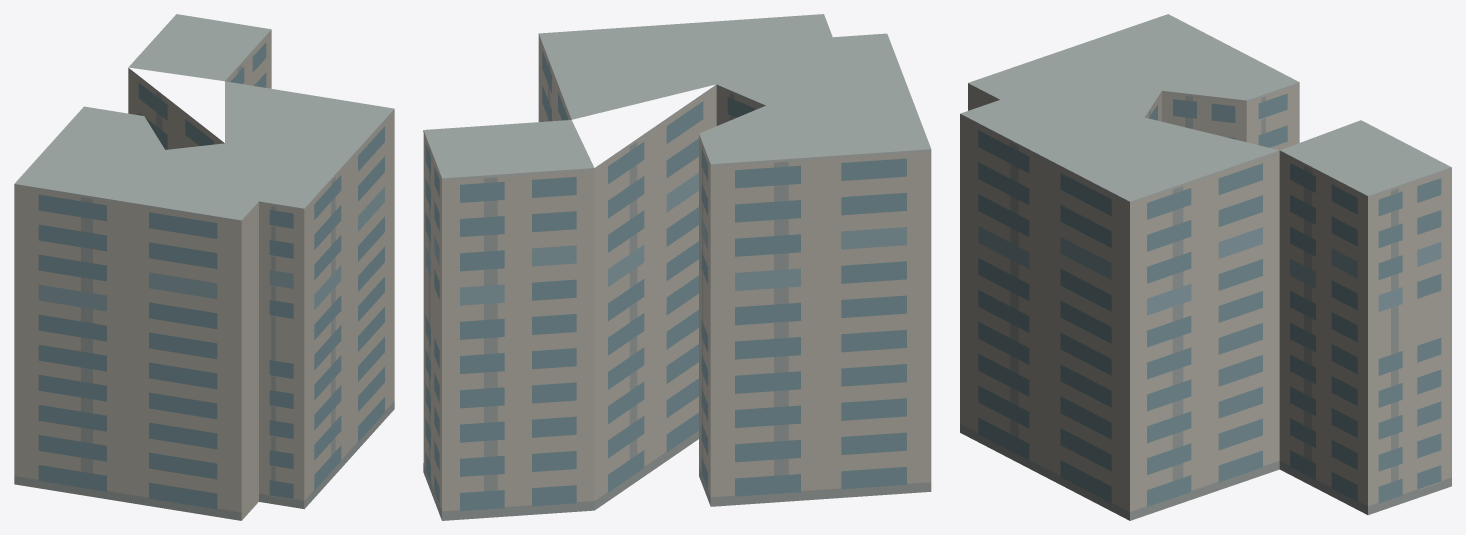
File: residential-241952f5-4ea4-426e-b611-ec296068d073.glb
The picture shows the model from 3 angles, left to right: view 1: azimuth 30°, elevation 25°; view 2: azimuth 150°, elevation 25°; view 3: azimuth 270°, elevation 25°; orthographic projection. The views are drawn at different scales.
Visible parts, largest first — view 1: residential-241952f5-4ea4-426e-b611-ec296068d073.tmp; view 2: residential-241952f5-4ea4-426e-b611-ec296068d073.tmp; view 3: residential-241952f5-4ea4-426e-b611-ec296068d073.tmp.
Boxes of the visible parts, x1,y1,x2,y2 form: residential-241952f5-4ea4-426e-b611-ec296068d073.tmp: (14, 14, 394, 520); residential-241952f5-4ea4-426e-b611-ec296068d073.tmp: (423, 14, 931, 520); residential-241952f5-4ea4-426e-b611-ec296068d073.tmp: (960, 14, 1451, 520).
Size of the model in its own units: 39.14 by 31 by 43.3.
